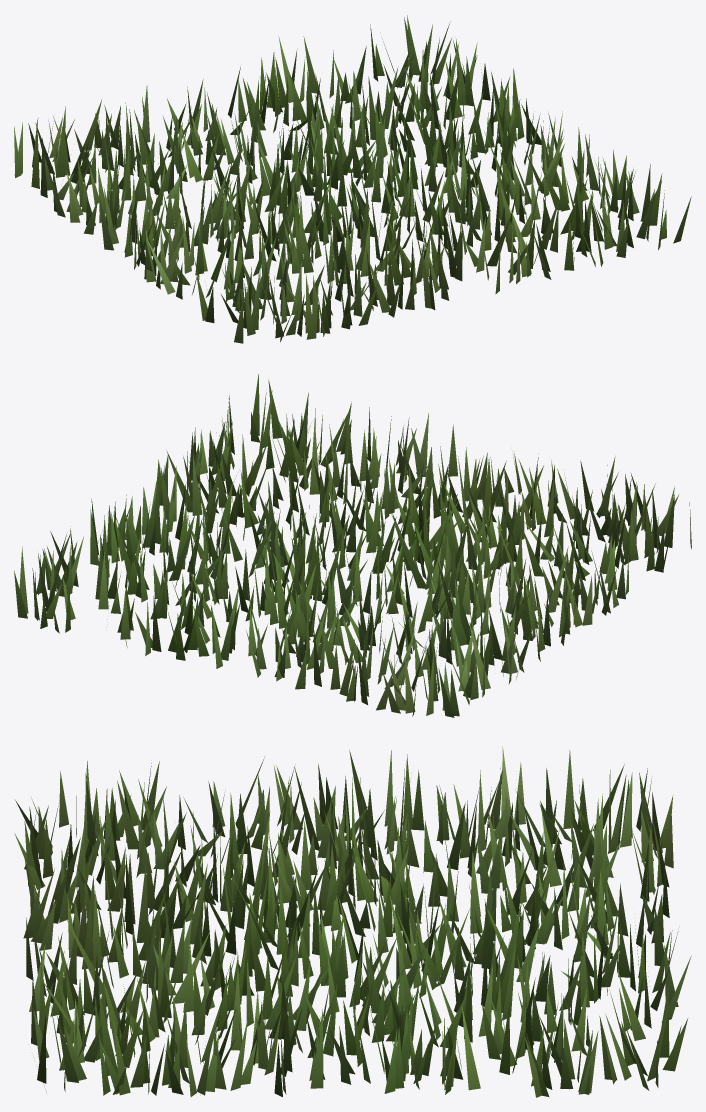
Rendered from grass_carpet.glb.
The picture shows the model from 3 angles, top to bottom: view 1: azimuth 30°, elevation 25°; view 2: azimuth 150°, elevation 25°; view 3: azimuth 270°, elevation 25°; orthographic projection. The views are drawn at different scales.
Parts seen in each view (by area): view 1: grass_carpet; view 2: grass_carpet; view 3: grass_carpet.
Part boxes in pixels (<box>): grass_carpet: <box>14,15,691,343</box>; grass_carpet: <box>14,374,691,717</box>; grass_carpet: <box>14,746,691,1097</box>.
Bounding box in the file's own units: 2.09 × 0.3063 × 2.1.
